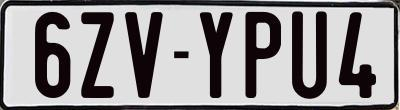4: (336, 10, 379, 100)
6: (32, 10, 73, 100)
P: (242, 12, 279, 98)
U: (290, 11, 329, 99)
V: (122, 12, 166, 103)
Y: (198, 11, 237, 99)
Z: (78, 9, 113, 98)
